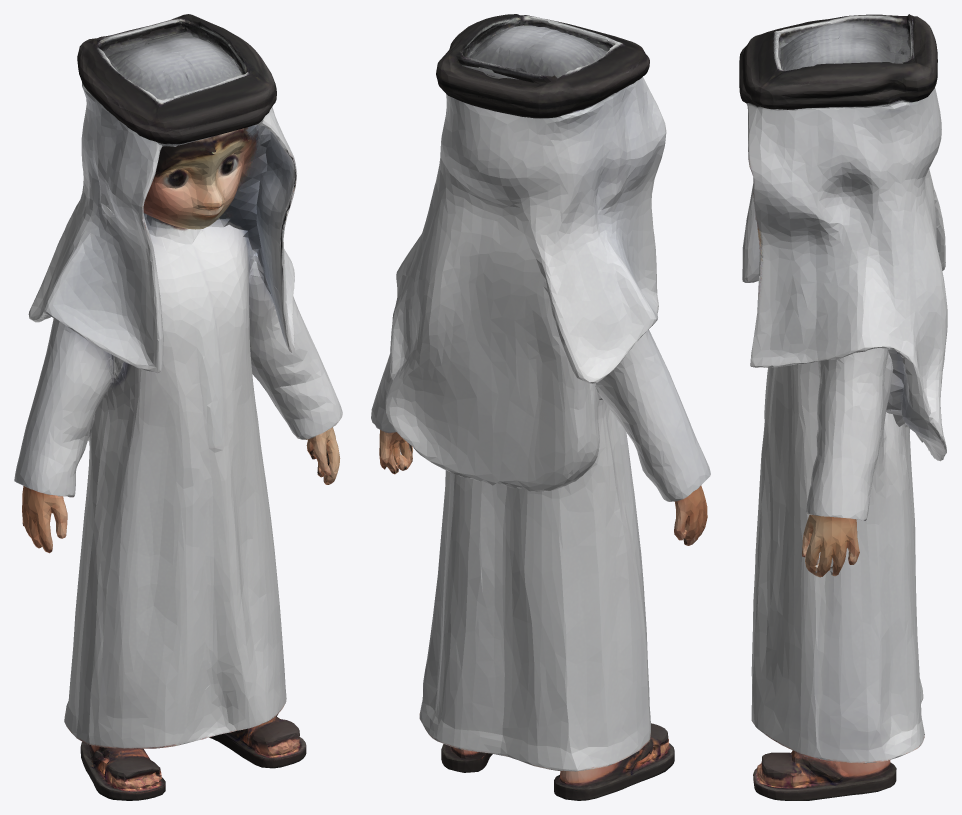
The model's file is salman_raw.glb.
The picture shows the model from 3 angles, left to right: view 1: azimuth 30°, elevation 25°; view 2: azimuth 150°, elevation 25°; view 3: azimuth 270°, elevation 25°; orthographic projection. The views are drawn at different scales.
Parts seen in each view (by area): view 1: world; view 2: world; view 3: world.
Part boxes in pixels (box(x1,y1,x2,y2)): world: box(14, 14, 342, 800); world: box(371, 14, 710, 800); world: box(739, 14, 947, 800).
Bounding box in the file's own units: 0.4708 × 0.9993 × 0.2636.
Materials: 1 (1 with a texture image).
